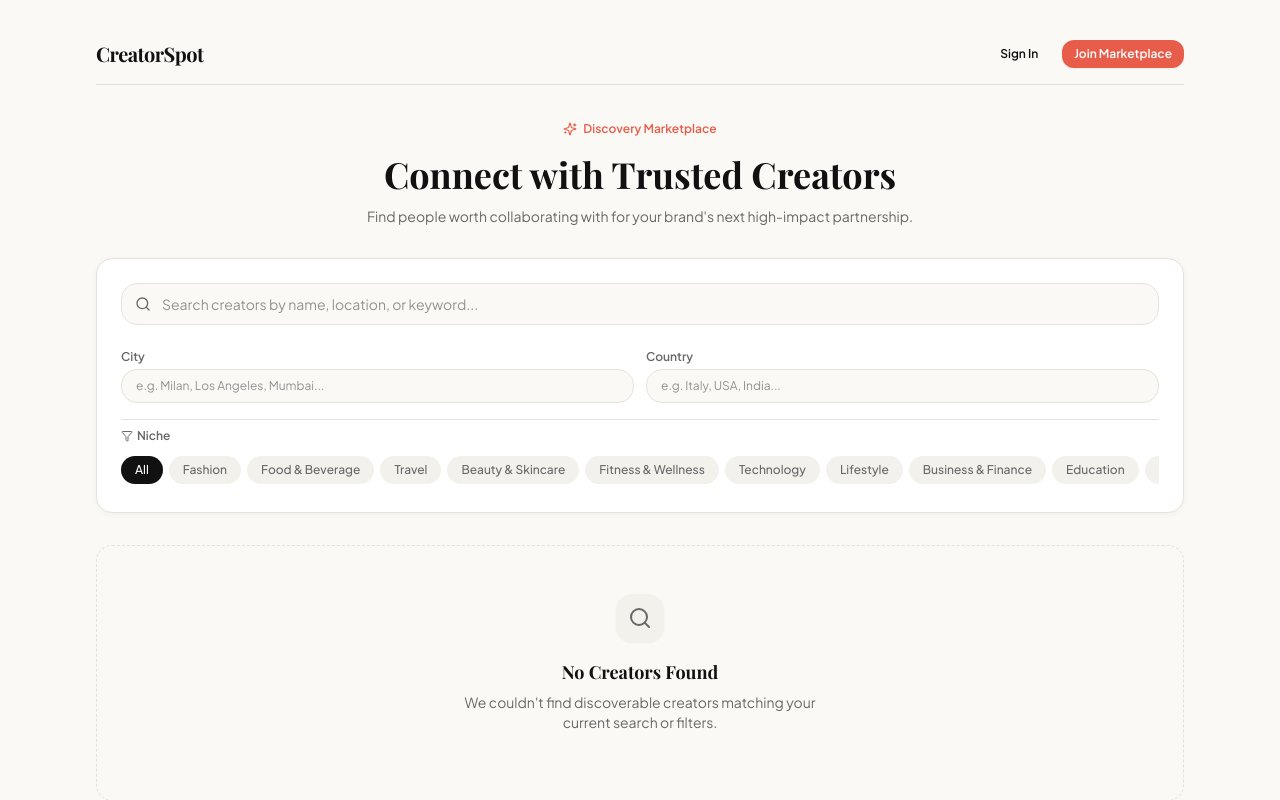
it: Phase 18 Part 3 — Accessibility Hardening Test Suite › Niche Filters Accessibility › search clear button has comfortable hit padding (p-1.5)
Type "Elena" into the field labelled "Search creators by name, location, or keyword..." at [640, 304], box [121, 283, 1159, 325]
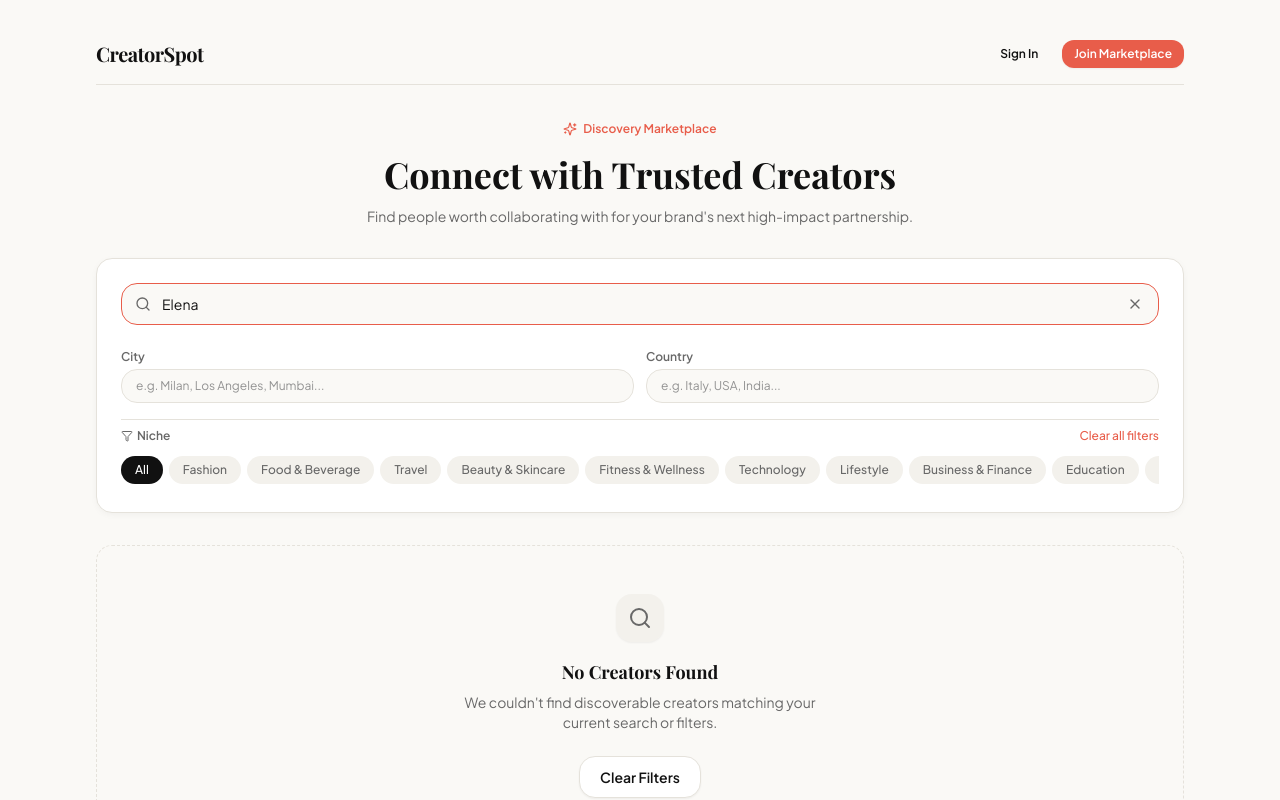
Now the button named "Clear search text" is shown, box [1121, 290, 1149, 318]
